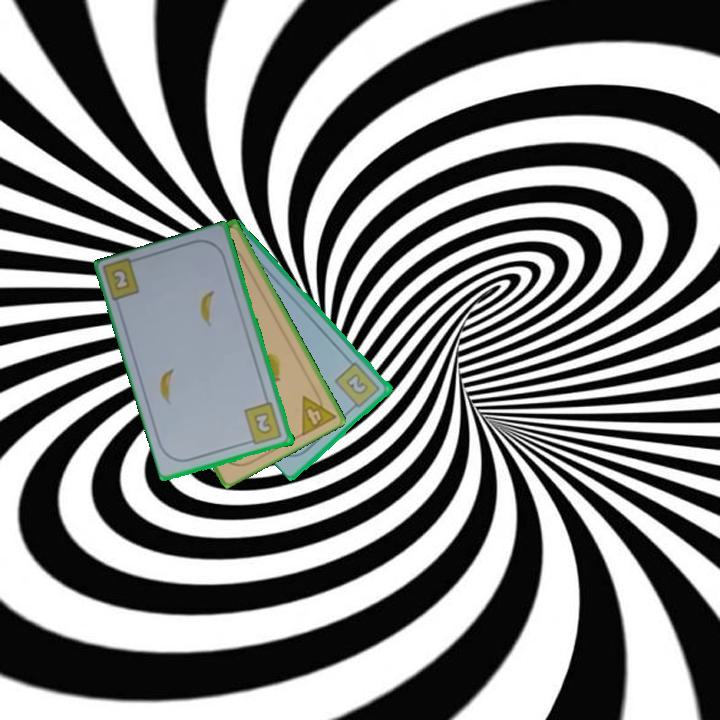2b: (331, 359, 383, 413), (241, 399, 285, 448), (108, 265, 133, 294)
4p: (298, 384, 339, 439)
